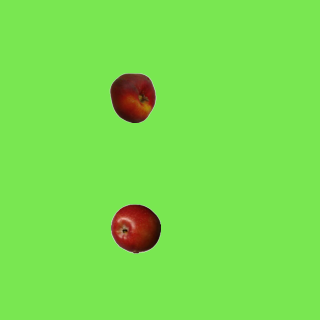Apple Braeburn: (110, 203, 160, 253)
Nectarine Flat: (107, 72, 157, 122)
